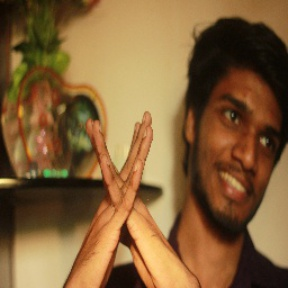W: (76, 109, 175, 277)
